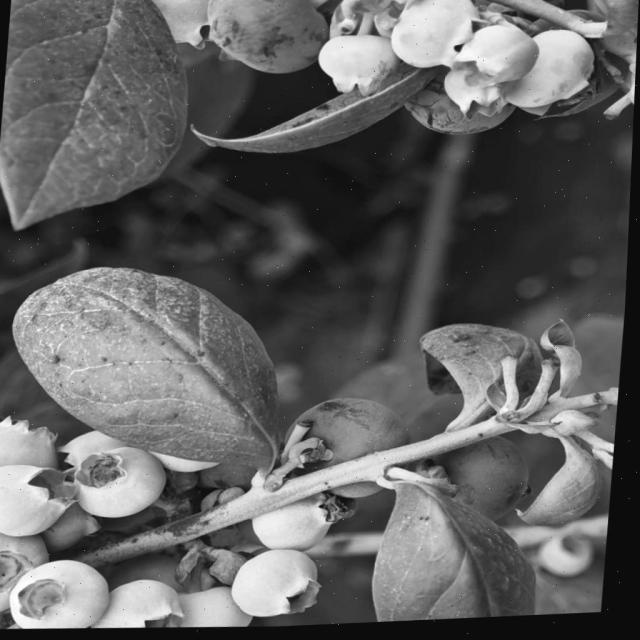RipeBlueBerry: (200, 0, 326, 81)
UnripeBlueBerry: (9, 554, 117, 632), (76, 445, 173, 522), (233, 549, 329, 621), (388, 0, 478, 73), (0, 460, 78, 539), (458, 25, 541, 93), (99, 577, 189, 632)
